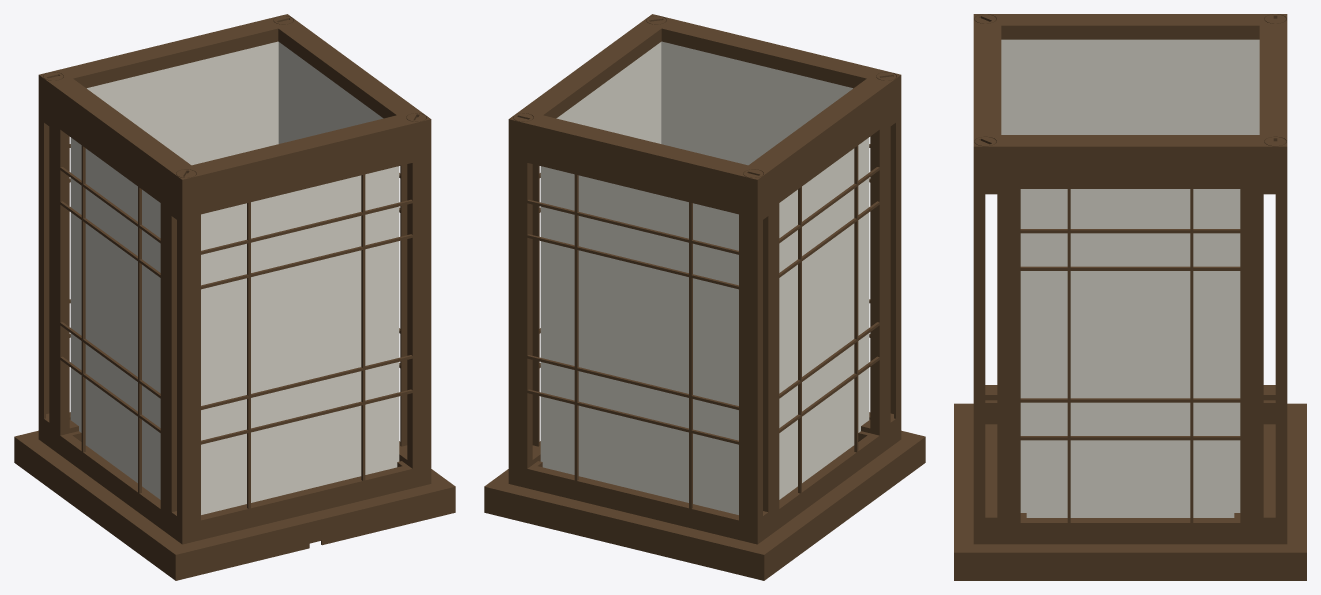
File: andon.glb
3 renders of one model, left to right at view 1: azimuth 30°, elevation 25°; view 2: azimuth 150°, elevation 25°; view 3: azimuth 270°, elevation 25°, orthographic. The views are drawn at different scales.
Parts seen in each view (by area): view 1: 01_Base; view 2: 01_Base; view 3: 01_Base.
Part boxes in pixels (bbox=[...]): 01_Base: bbox=[14, 14, 455, 580]; 01_Base: bbox=[484, 14, 925, 580]; 01_Base: bbox=[954, 14, 1306, 580].
Bounding box in the file's own units: 0.18 × 0.24 × 0.18.
